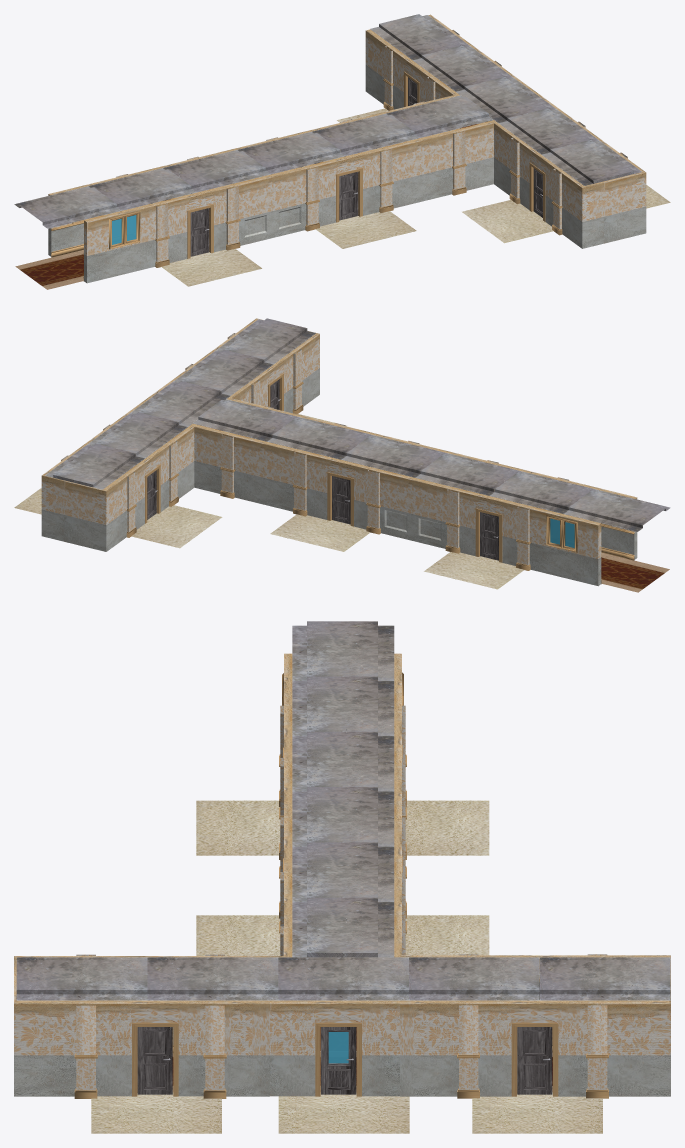
3 renders of one model, top to bottom at view 1: azimuth 30°, elevation 25°; view 2: azimuth 150°, elevation 25°; view 3: azimuth 270°, elevation 25°, orthographic. The views are drawn at different scales.
Visible parts, largest first — view 1: Plane.020, parede_sul_CO.015, Plane.029, parede_sul_CO.018, parque_CS.049, parque_CS.023, parque_CS.001, parque_CS.000, parede_sul_CO.013, porta_OP2.006, Plane.019; view 2: Plane.020, parede_sul_CO.015, Plane.029, parede_sul_CO.018, parque_CS.049, parque_CS.023, parque_CS.001, parque_CS.000, parede_sul_CO.013, porta_OP2.006, Plane.019; view 3: Plane.020, Plane.029, parede_sul_CO.015, parede_sul_CO.018, parque_CS.000, parque_CS.049, porta_OP2.006, porta_OP3, parque_CS.023, parque_CS.001, parede_sul_CO.013.
Boxes of the visible parts, x1=… form: Plane.020: x1=14, y1=14, x2=641, y2=228; parede_sul_CO.015: x1=123, y1=32, x2=621, y2=262; Plane.029: x1=161, y1=108, x2=670, y2=286; parede_sul_CO.018: x1=365, y1=14, x2=646, y2=248; parque_CS.049: x1=116, y1=30, x2=627, y2=267; parque_CS.023: x1=48, y1=176, x2=161, y2=283; parque_CS.001: x1=197, y1=139, x2=309, y2=245; parque_CS.000: x1=346, y1=64, x2=578, y2=208; parede_sul_CO.013: x1=421, y1=78, x2=517, y2=195; porta_OP2.006: x1=151, y1=77, x2=542, y2=256; Plane.019: x1=15, y1=122, x2=484, y2=289; Plane.020: x1=45, y1=318, x2=670, y2=531; parede_sul_CO.015: x1=66, y1=336, x2=562, y2=565; Plane.029: x1=14, y1=414, x2=523, y2=589; parede_sul_CO.018: x1=41, y1=318, x2=319, y2=551; parque_CS.049: x1=61, y1=333, x2=569, y2=570; parque_CS.023: x1=524, y1=479, x2=637, y2=586; parque_CS.001: x1=376, y1=443, x2=488, y2=548; parque_CS.000: x1=109, y1=367, x2=340, y2=511; parede_sul_CO.013: x1=169, y1=382, x2=268, y2=498; porta_OP2.006: x1=147, y1=379, x2=521, y2=560; Plane.019: x1=204, y1=426, x2=669, y2=592; Plane.020: x1=16, y1=621, x2=670, y2=1000; Plane.029: x1=91, y1=800, x2=602, y2=1133; parede_sul_CO.015: x1=87, y1=709, x2=597, y2=1096; parede_sul_CO.018: x1=14, y1=955, x2=670, y2=1096; parque_CS.000: x1=216, y1=875, x2=465, y2=1096; parque_CS.049: x1=74, y1=705, x2=608, y2=1098; porta_OP2.006: x1=137, y1=982, x2=552, y2=1094; porta_OP3: x1=321, y1=1027, x2=356, y2=1094; parque_CS.023: x1=282, y1=653, x2=403, y2=709; parque_CS.001: x1=284, y1=764, x2=401, y2=819; parede_sul_CO.013: x1=219, y1=928, x2=467, y2=957.
Size of the model in its own units: 3006 by 349 by 2014.
Materials: 13 (11 with a texture image).
